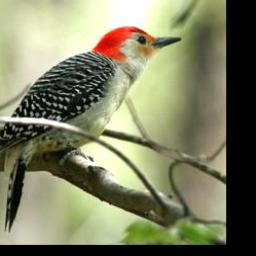Woodpecker: (0, 24, 182, 232)
